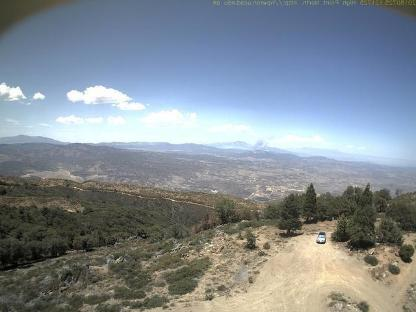smoke: (245, 131, 278, 155)
